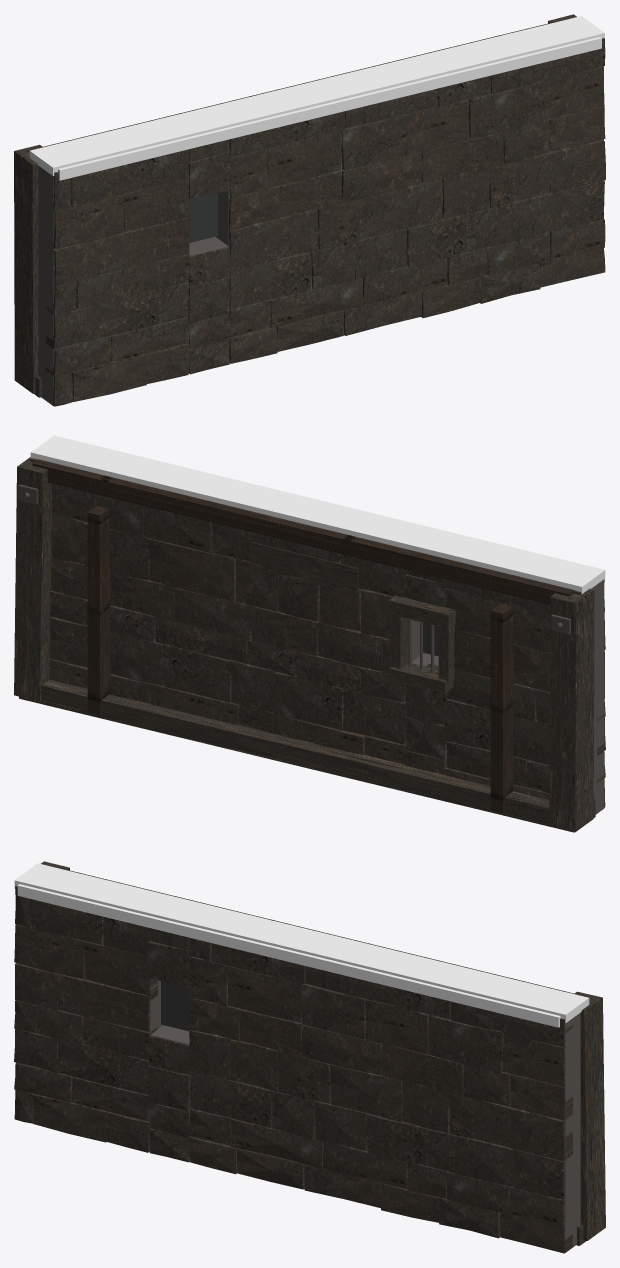
Rendered from wall_rear_preview.glb.
3 renders of one model, top to bottom at view 1: azimuth 30°, elevation 25°; view 2: azimuth 150°, elevation 25°; view 3: azimuth 330°, elevation 25°, orthographic.
Visible parts, largest first — view 1: ASSET_REAR_REAR_roof_bedding_stone, ASSET_REAR_REAR_interior_coping_return, ASSET_REAR_REAR_load_corner_1, ASSET_REAR_REAR_solid_2_structural, ASSET_REAR_REAR_solid_2_InteriorPBR_4_0, ASSET_REAR_REAR_solid_2_InteriorPBR_2_0, ASSET_REAR_REAR_solid_0_InteriorPBR_5_1, ASSET_REAR_REAR_solid_0_InteriorPBR_2_6, ASSET_REAR_REAR_solid_0_InteriorPBR_5_4, ASSET_REAR_REAR_solid_0_InteriorPBR_3_3, ASSET_REAR_REAR_solid_2_InteriorPBR_5_1, ASSET_REAR_REAR_solid_0_InteriorPBR_4_2 (+61 smaller); view 2: ASSET_REAR_REAR_roof_bedding_stone, ASSET_REAR_REAR_continuous_plinth, ASSET_REAR_REAR_wall_plate, ASSET_REAR_REAR_load_corner_1, ASSET_REAR_REAR_load_corner_-1, ASSET_REAR_REAR_oak_utility_pier_1, ASSET_REAR_REAR_oak_utility_pier_-1, ASSET_REAR_REAR_solid_0_stone_4_2, ASSET_REAR_REAR_dark_smoke_stone, ASSET_REAR_REAR_solid_0_stone_1_4, ASSET_REAR_REAR_solid_0_stone_1_2, ASSET_REAR_REAR_solid_0_stone_3_2 (+51 smaller); view 3: ASSET_REAR_REAR_roof_bedding_stone, ASSET_REAR_REAR_interior_coping_return, ASSET_REAR_REAR_load_corner_-1, ASSET_REAR_REAR_solid_0_structural, ASSET_REAR_REAR_solid_2_InteriorPBR_4_0, ASSET_REAR_REAR_solid_2_InteriorPBR_2_0, ASSET_REAR_REAR_solid_0_InteriorPBR_2_6, ASSET_REAR_REAR_solid_0_InteriorPBR_5_1, ASSET_REAR_REAR_solid_0_InteriorPBR_5_4, ASSET_REAR_REAR_solid_0_InteriorPBR_3_3, ASSET_REAR_REAR_solid_2_InteriorPBR_5_1, ASSET_REAR_REAR_solid_0_InteriorPBR_4_2 (+60 smaller).
Part boxes in pixels (<box>): ASSET_REAR_REAR_roof_bedding_stone: <box>29,16,604,175</box>; ASSET_REAR_REAR_interior_coping_return: <box>58,37,601,180</box>; ASSET_REAR_REAR_load_corner_1: <box>14,144,42,393</box>; ASSET_REAR_REAR_solid_2_structural: <box>38,165,188,406</box>; ASSET_REAR_REAR_solid_2_InteriorPBR_4_0: <box>98,217,190,274</box>; ASSET_REAR_REAR_solid_2_InteriorPBR_2_0: <box>97,283,188,338</box>; ASSET_REAR_REAR_solid_0_InteriorPBR_5_1: <box>468,80,544,138</box>; ASSET_REAR_REAR_solid_0_InteriorPBR_2_6: <box>229,252,311,309</box>; ASSET_REAR_REAR_solid_0_InteriorPBR_5_4: <box>267,130,342,187</box>; ASSET_REAR_REAR_solid_0_InteriorPBR_3_3: <box>369,179,441,236</box>; ASSET_REAR_REAR_solid_2_InteriorPBR_5_1: <box>53,194,125,249</box>; ASSET_REAR_REAR_solid_0_InteriorPBR_4_2: <box>421,132,504,183</box>; ASSET_REAR_REAR_roof_bedding_stone: <box>30,435,605,593</box>; ASSET_REAR_REAR_continuous_plinth: <box>19,679,595,832</box>; ASSET_REAR_REAR_wall_plate: <box>32,459,574,604</box>; ASSET_REAR_REAR_load_corner_1: <box>549,588,594,832</box>; ASSET_REAR_REAR_load_corner_-1: <box>14,457,52,701</box>; ASSET_REAR_REAR_oak_utility_pier_1: <box>490,603,514,812</box>; ASSET_REAR_REAR_oak_utility_pier_-1: <box>87,505,111,714</box>; ASSET_REAR_REAR_solid_0_stone_4_2: <box>148,538,236,601</box>; ASSET_REAR_REAR_dark_smoke_stone: <box>249,541,358,594</box>; ASSET_REAR_REAR_solid_0_stone_1_4: <box>273,671,343,730</box>; ASSET_REAR_REAR_solid_0_stone_1_2: <box>162,644,231,702</box>; ASSET_REAR_REAR_solid_0_stone_3_2: <box>174,587,251,640</box>; ASSET_REAR_REAR_roof_bedding_stone: <box>14,863,589,1023</box>; ASSET_REAR_REAR_interior_coping_return: <box>17,884,560,1027</box>; ASSET_REAR_REAR_load_corner_-1: <box>575,991,605,1240</box>; ASSET_REAR_REAR_solid_0_structural: <box>190,983,580,1252</box>; ASSET_REAR_REAR_solid_2_InteriorPBR_4_0: <box>57,974,158,1031</box>; ASSET_REAR_REAR_solid_2_InteriorPBR_2_0: <box>57,1040,149,1094</box>; ASSET_REAR_REAR_solid_0_InteriorPBR_2_6: <box>190,1071,272,1128</box>; ASSET_REAR_REAR_solid_0_InteriorPBR_5_1: <box>428,1015,503,1072</box>; ASSET_REAR_REAR_solid_0_InteriorPBR_5_4: <box>227,966,302,1022</box>; ASSET_REAR_REAR_solid_0_InteriorPBR_3_3: <box>330,1064,402,1122</box>; ASSET_REAR_REAR_solid_2_InteriorPBR_5_1: <box>14,924,84,979</box>; ASSET_REAR_REAR_solid_0_InteriorPBR_4_2: <box>381,1044,463,1095</box>.
Size of the model in its own units: 8.05 by 3.28 by 0.9872.
Materials: 8 (4 with a texture image).
